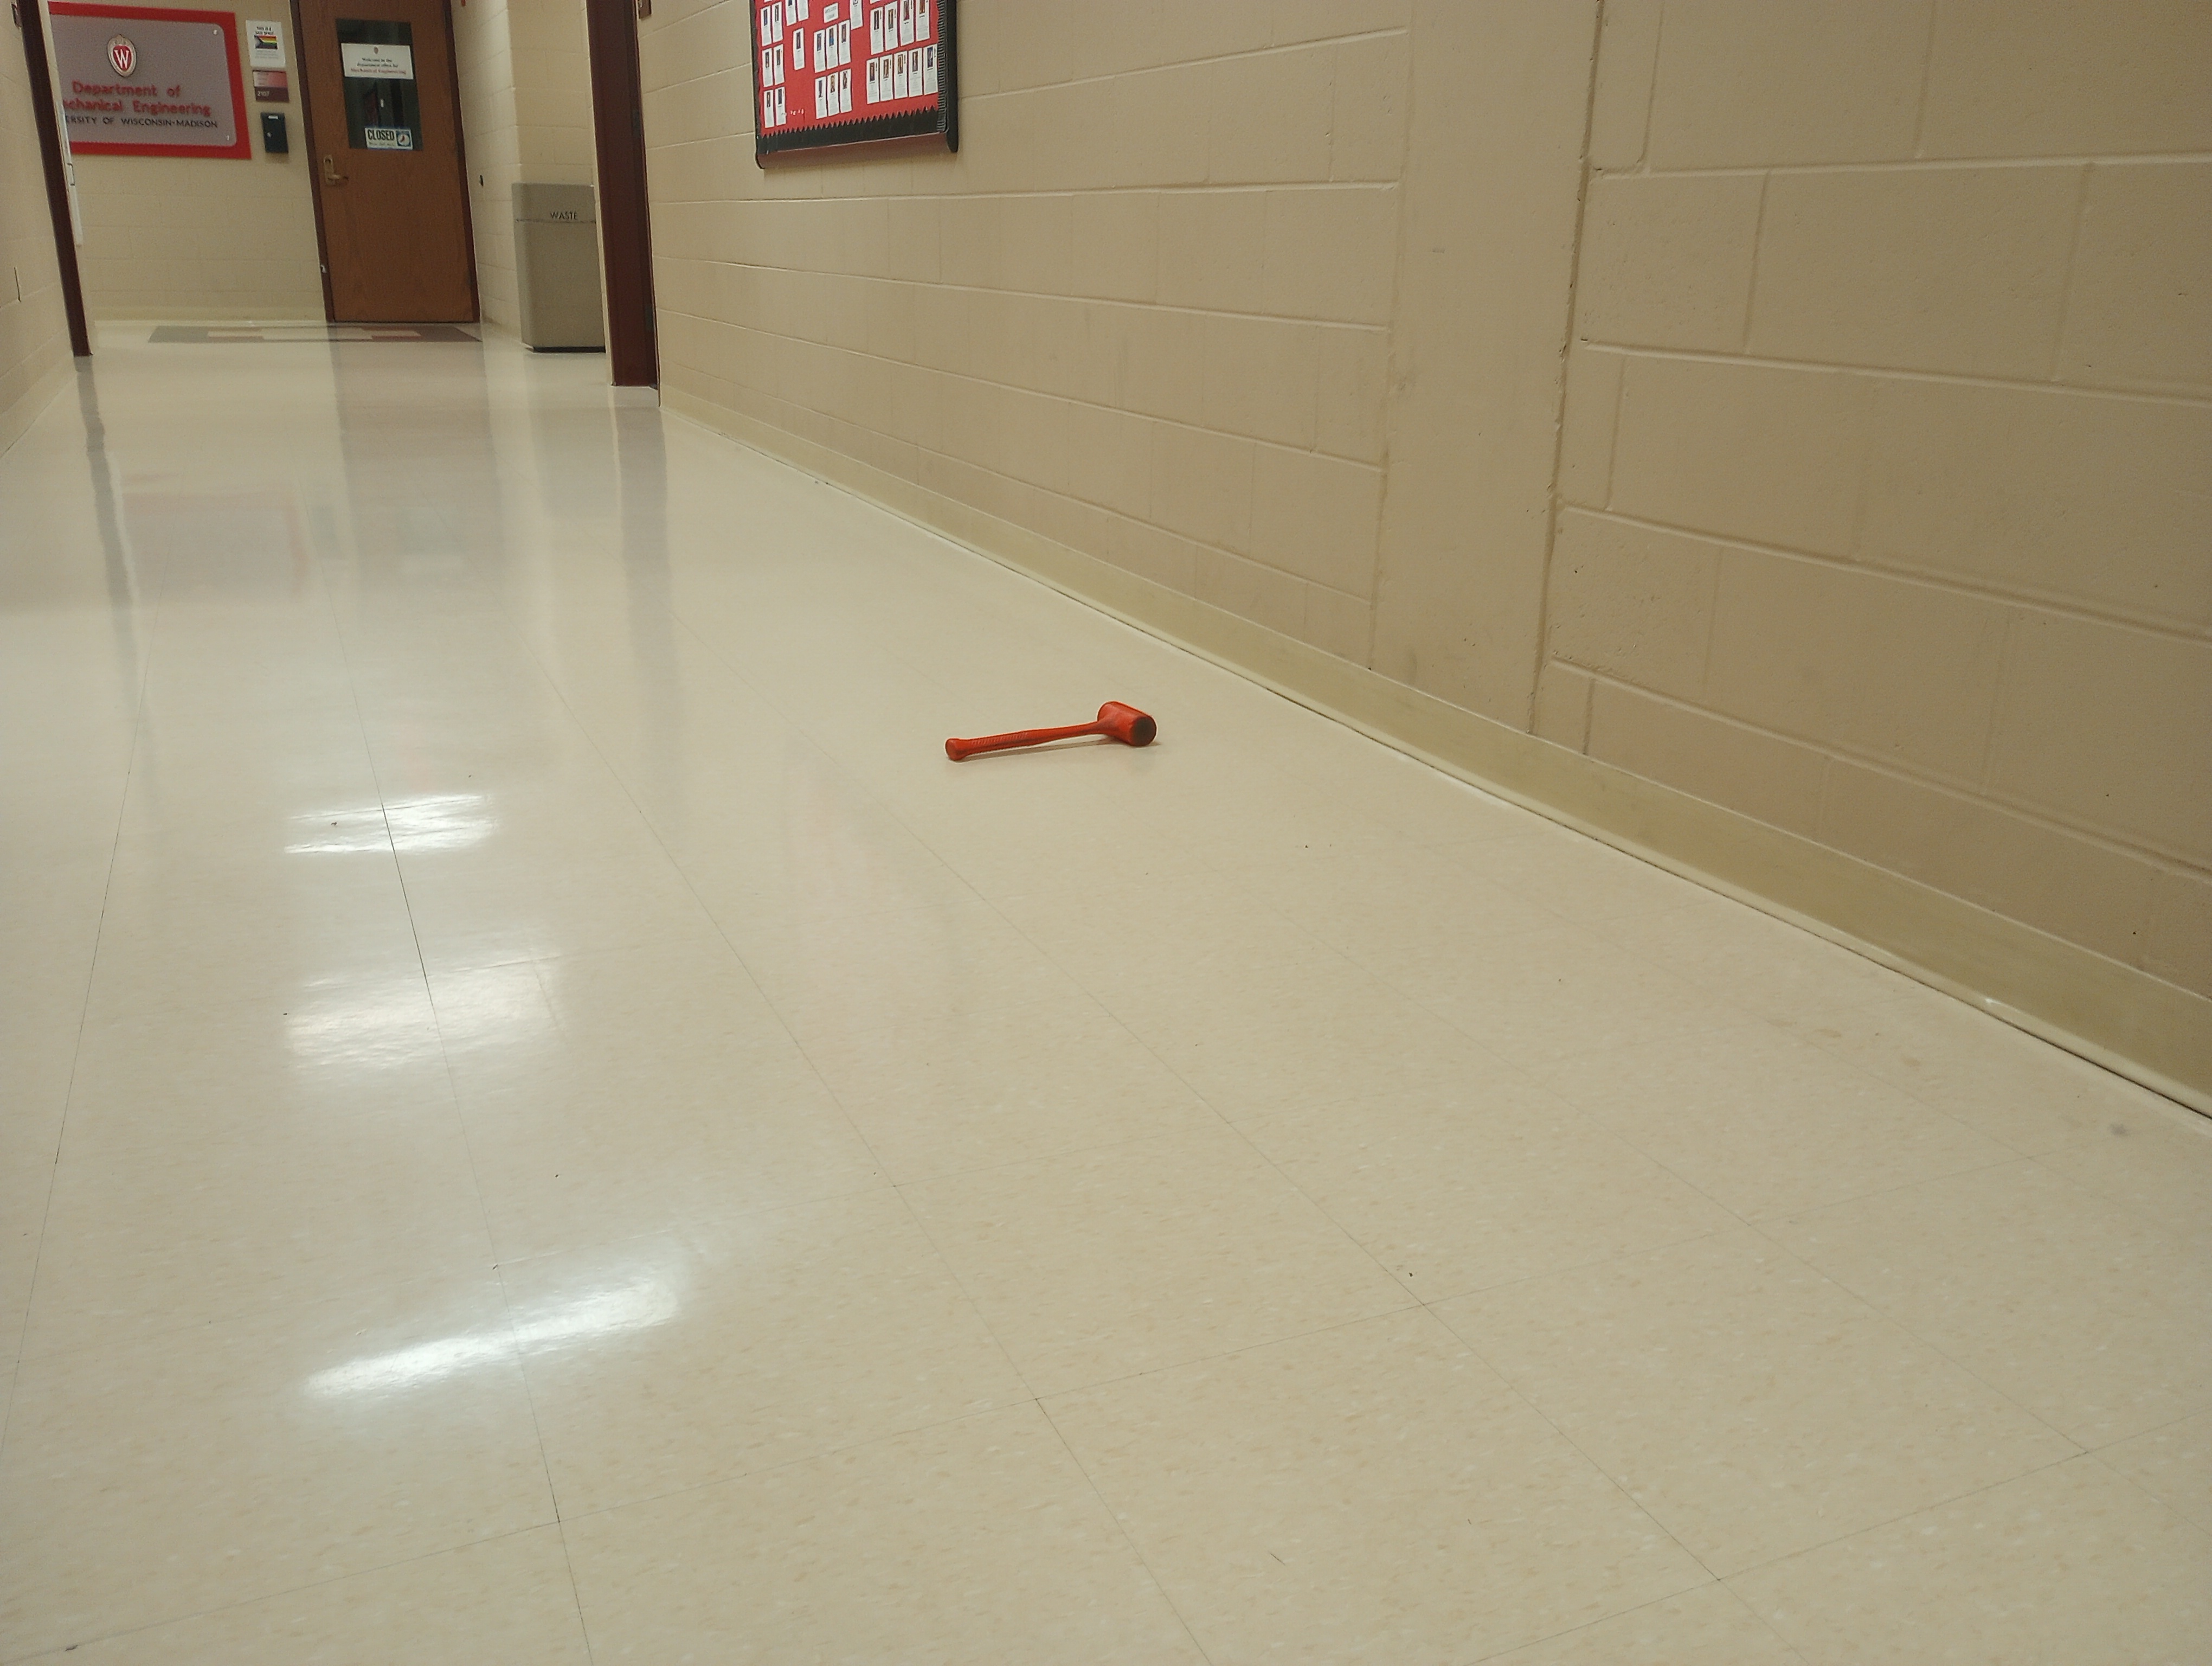hammer: (937, 695, 1161, 766)
